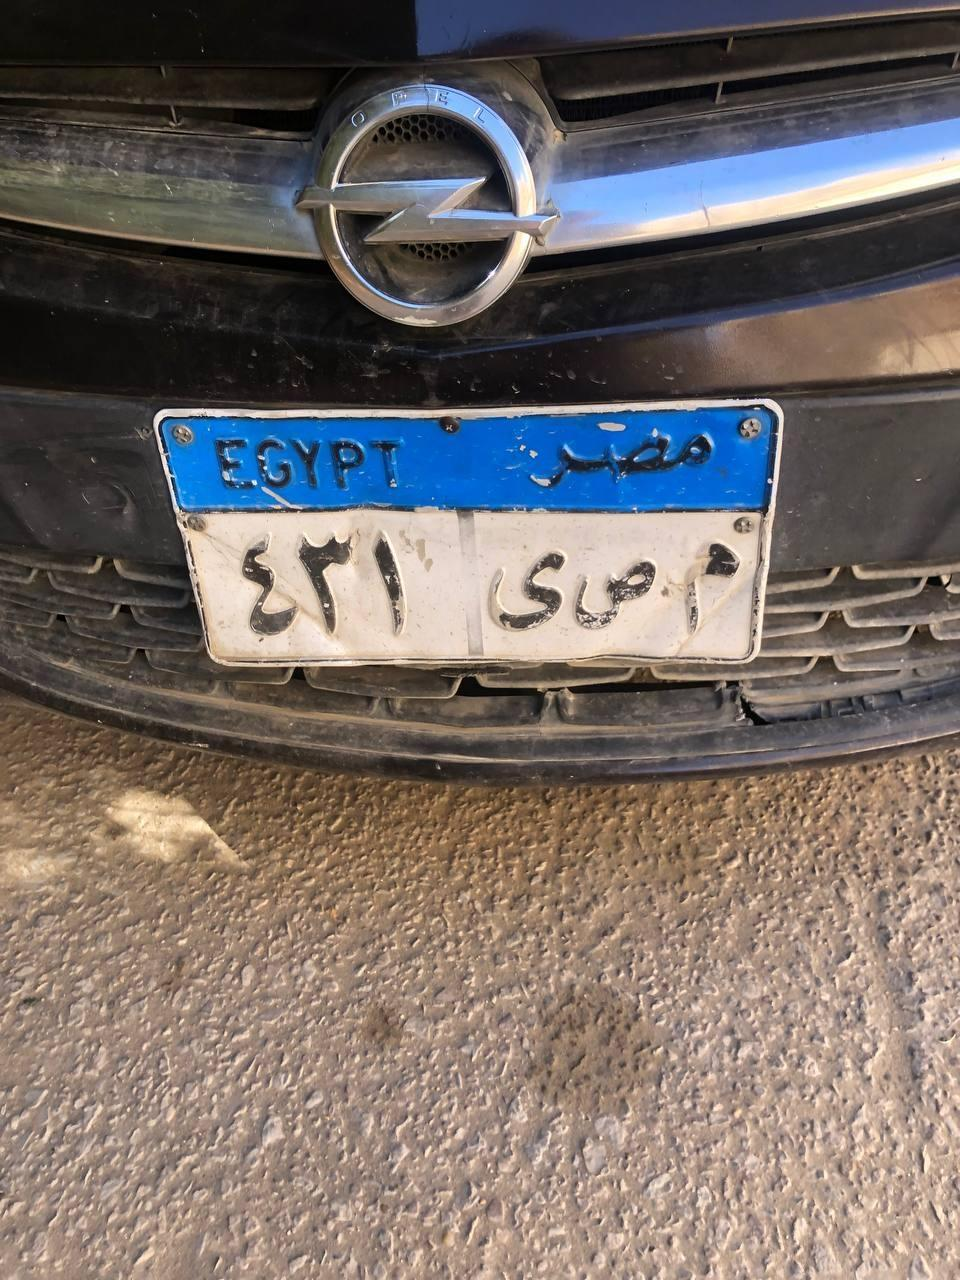1: (360, 528, 416, 635)
3: (292, 532, 358, 638)
4: (238, 535, 295, 641)
License Plate: (153, 390, 824, 662)
Meem: (678, 535, 739, 638)
Saad: (569, 548, 656, 629)
Yeeh: (479, 543, 564, 634)
